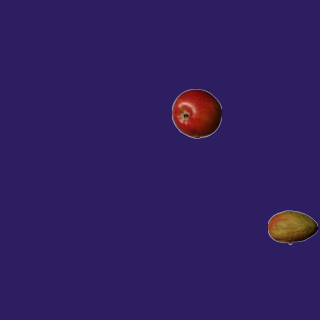Apple Braeburn: (171, 88, 221, 138)
Papaya: (267, 202, 317, 252)
